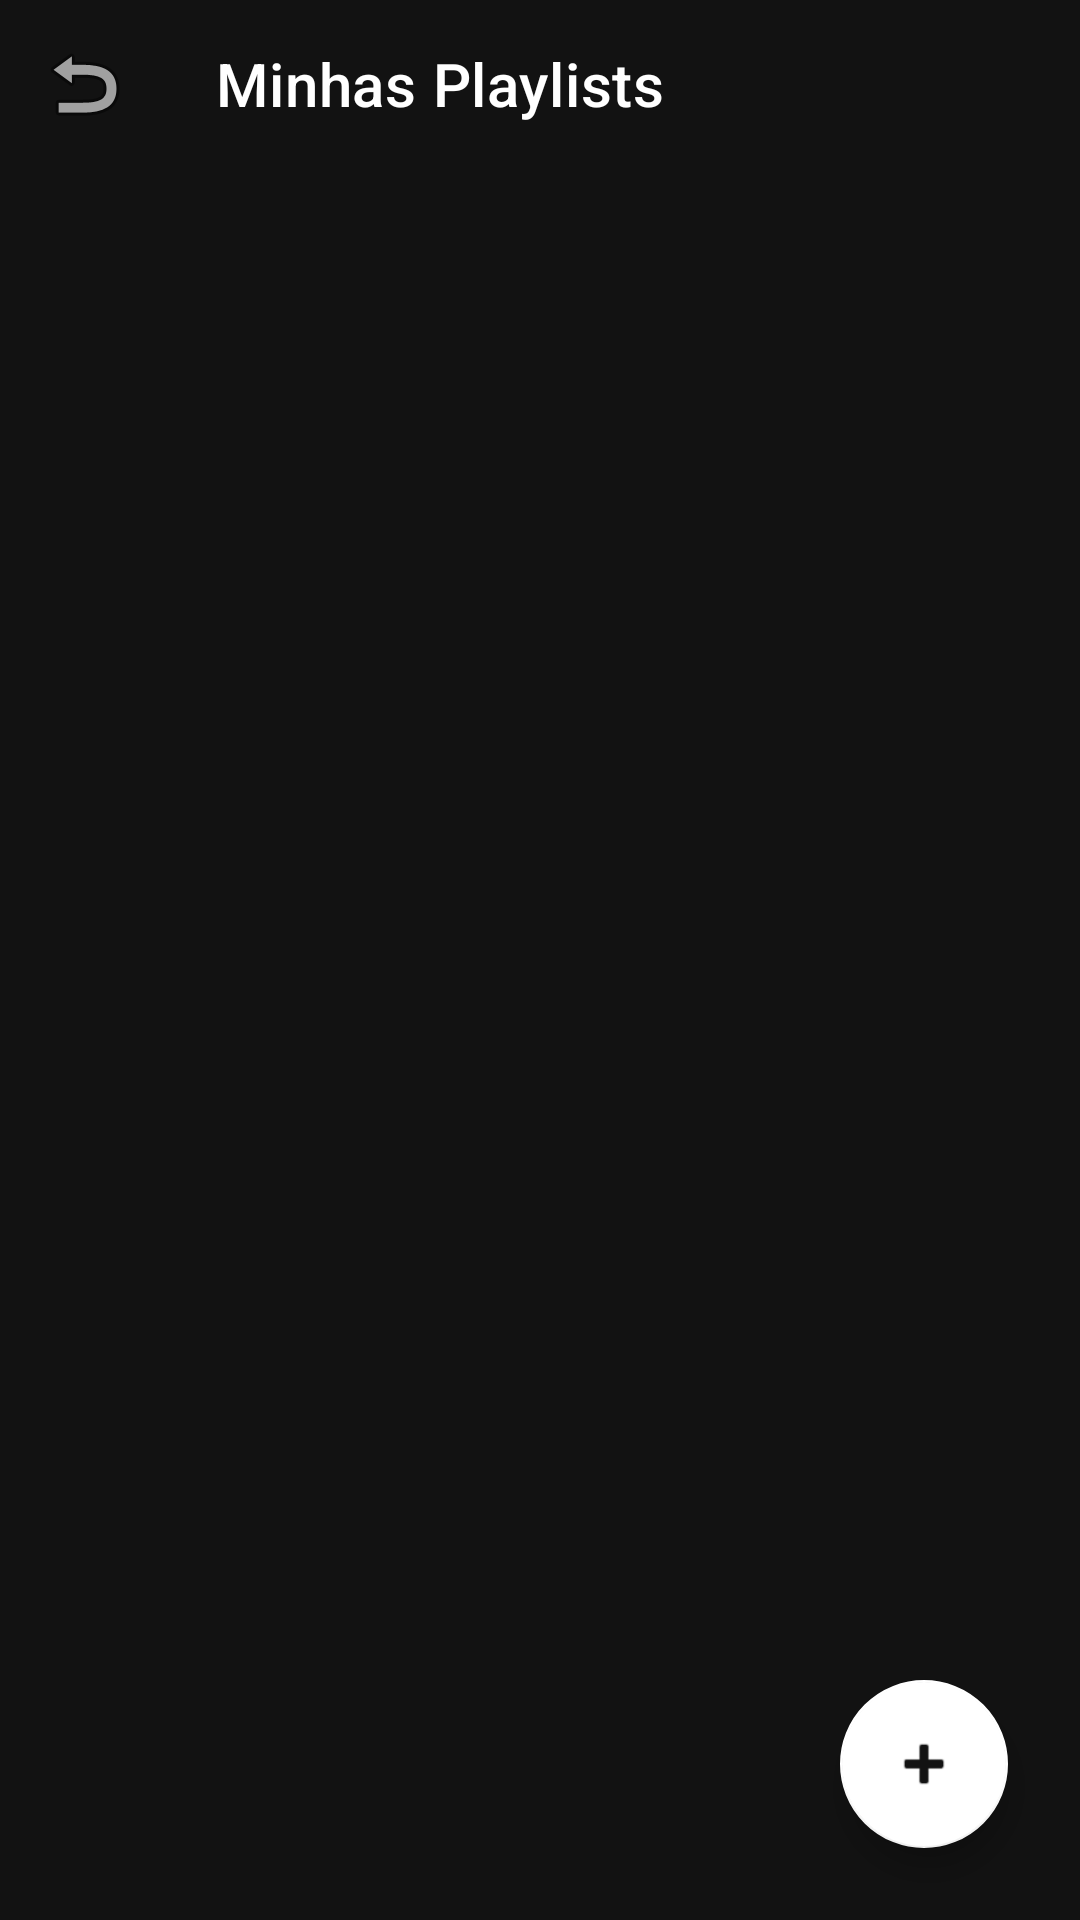

Icon bounding boxes for this 1080 x 1920 phone screenshot, format (left=x1, top=y1, right=x2, bottom=y2):
Criar nova playlist: (left=840, top=1680, right=1008, bottom=1848)
